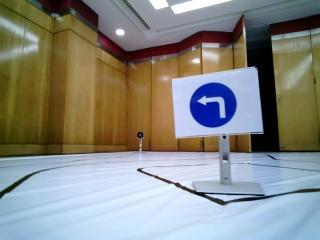left: (177, 80, 251, 130)
